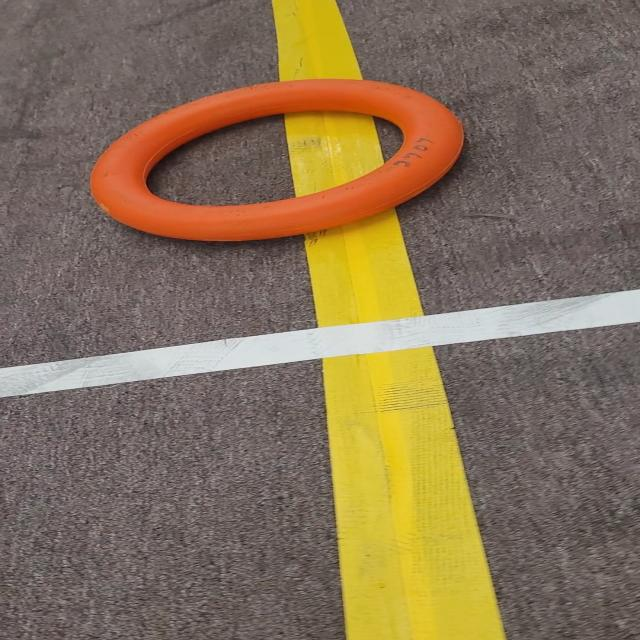note: (75, 61, 466, 259)
